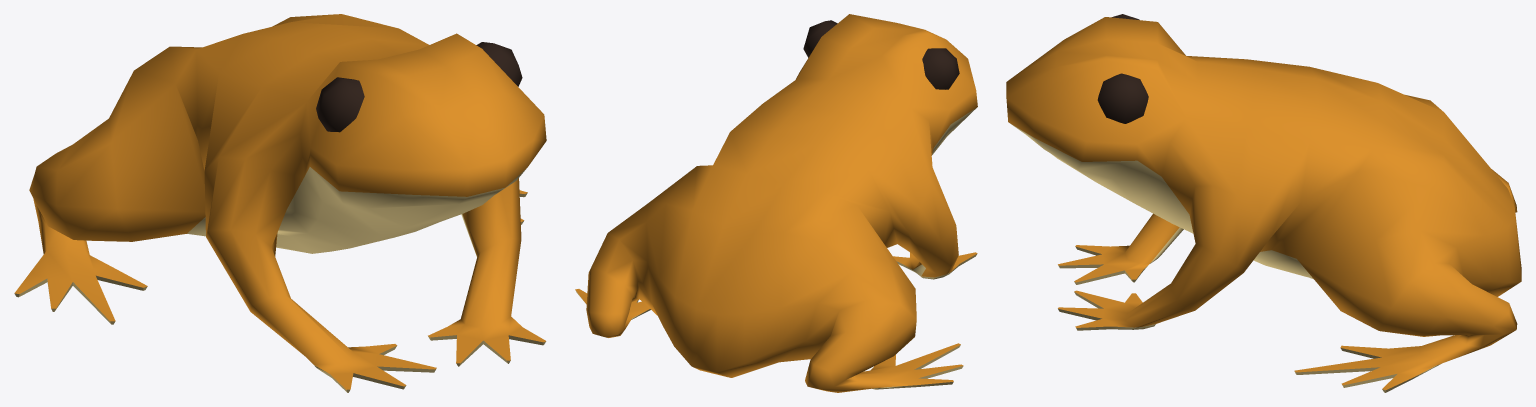
The model's file is itch_assetquest_pond_frog_3.glb.
3 renders of one model, left to right at view 1: azimuth 30°, elevation 25°; view 2: azimuth 150°, elevation 25°; view 3: azimuth 270°, elevation 25°, orthographic. The views are drawn at different scales.
Parts seen in each view (by area): view 1: Frog_3; view 2: Frog_3; view 3: Frog_3.
Part boxes in pixels (x1,y1,x2,y2): Frog_3: (14,14,546,392); Frog_3: (575,14,977,392); Frog_3: (1006,14,1521,392).
Size of the model in its own units: 0.9159 by 0.5168 by 0.96.
